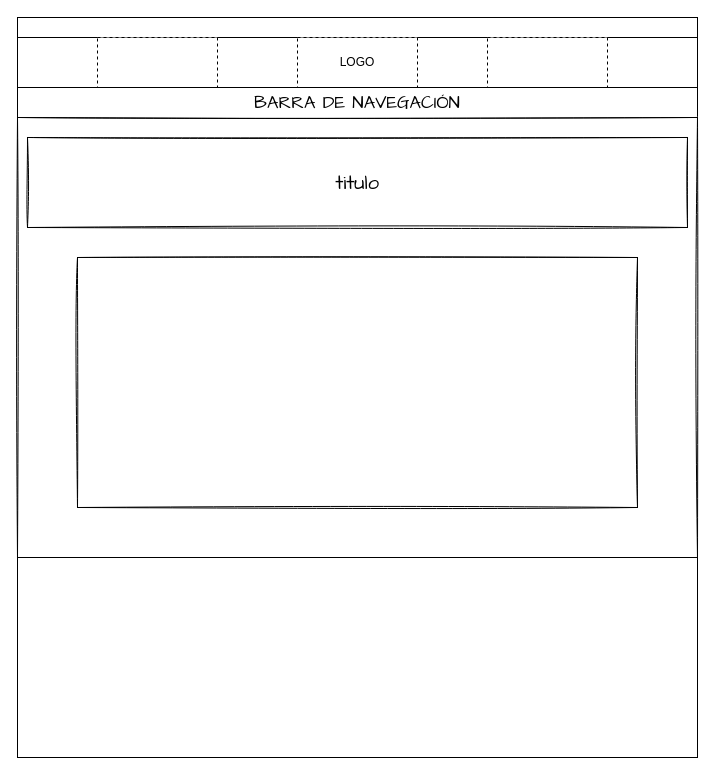
Image size: 715x775. Some labels were removed from this diagram. Here are the shapes that lost their labels. From the top down, the centre of each, then its label:
point (357, 382): Enlaces
point (357, 657): PIE
